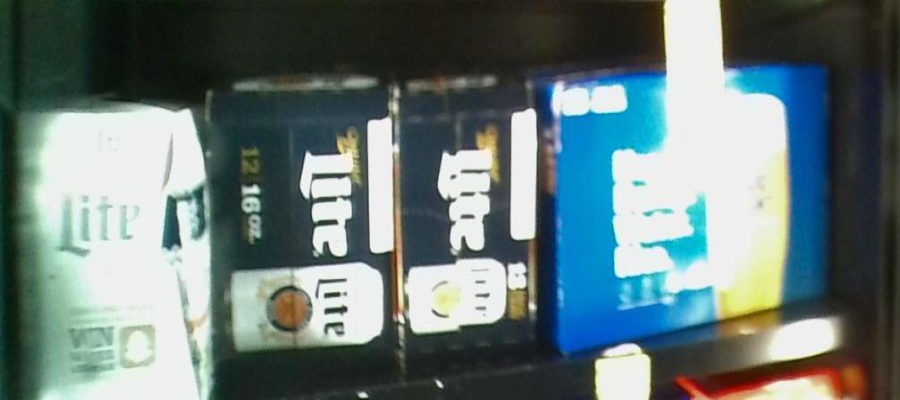bottle: (545, 63, 830, 319), (14, 91, 210, 395), (209, 83, 396, 391), (397, 81, 541, 367)
